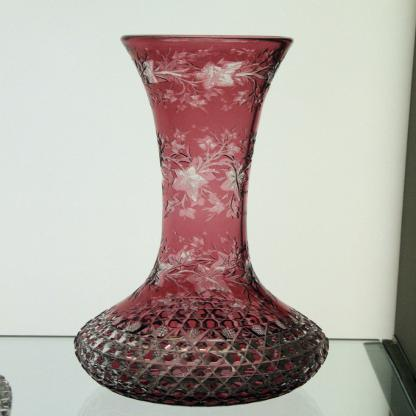vase: (73, 35, 330, 409)
